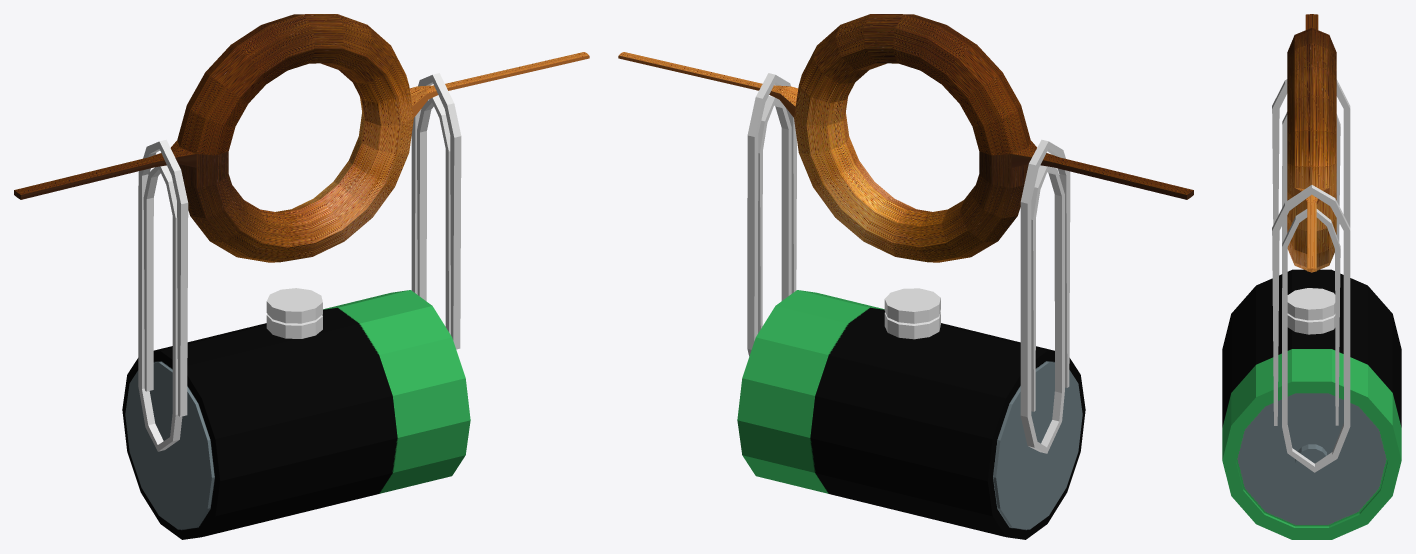
3 views of the same model, side by side, from view 1: azimuth 30°, elevation 25°; view 2: azimuth 150°, elevation 25°; view 3: azimuth 270°, elevation 25° (orthographic). The views are drawn at different scales.
Visible parts, largest first — view 1: Cylinder, Torus.001, Sundetiras, Sundetiras.001, Cylinder.001; view 2: Cylinder, Torus.001, Sundetiras, Sundetiras.001, Cylinder.001; view 3: Cylinder, Torus.001, Sundetiras.001, Sundetiras, Cylinder.001.
Boxes of the visible parts, box(x1,y1,x2,y2) form: Cylinder: box(122, 290, 470, 539); Torus.001: box(14, 14, 589, 262); Sundetiras: box(138, 139, 188, 451); Sundetiras.001: box(411, 73, 461, 349); Cylinder.001: box(266, 288, 322, 338); Cylinder: box(737, 290, 1085, 539); Torus.001: box(618, 14, 1193, 262); Sundetiras: box(1020, 139, 1070, 453); Sundetiras.001: box(747, 73, 796, 356); Cylinder.001: box(884, 288, 940, 339); Cylinder: box(1222, 269, 1401, 539); Torus.001: box(1287, 14, 1336, 272); Sundetiras.001: box(1272, 185, 1350, 472); Sundetiras: box(1272, 79, 1350, 273); Cylinder.001: box(1287, 288, 1335, 334).
Bounding box in the file's own units: 673 × 547 × 200.
